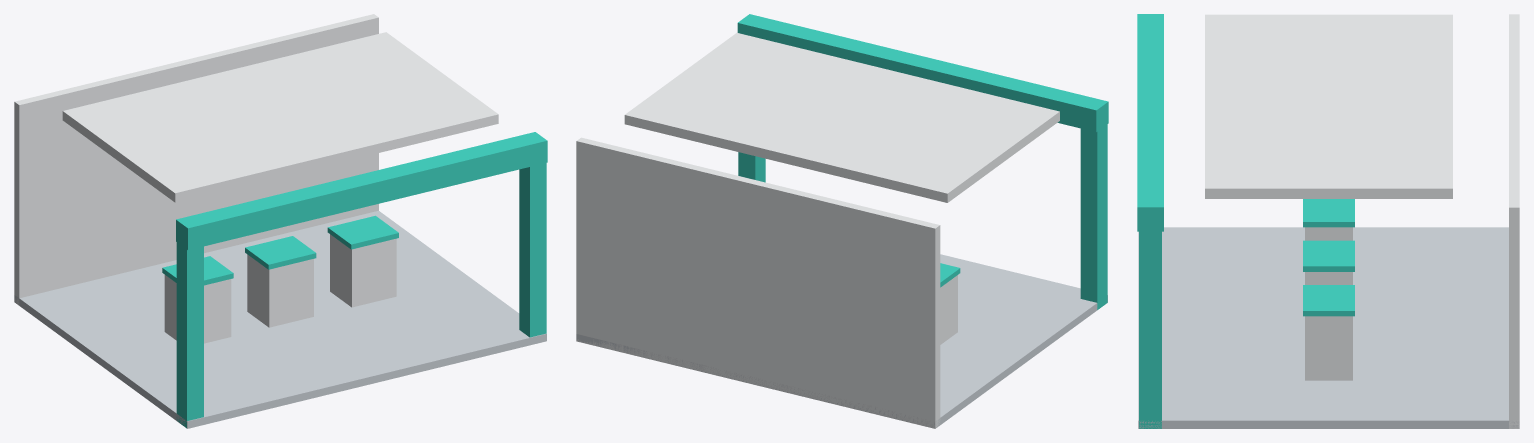
3 views of the same model, side by side, from view 1: azimuth 30°, elevation 25°; view 2: azimuth 150°, elevation 25°; view 3: azimuth 270°, elevation 25° (orthographic). The views are drawn at different scales.
Parts seen in each view (by area): view 1: Exhibition Booth Concept; view 2: Exhibition Booth Concept; view 3: Exhibition Booth Concept.
Part boxes in pixels (x1,y1,x2,y2): Exhibition Booth Concept: [14, 14, 547, 428]; Exhibition Booth Concept: [576, 14, 1108, 428]; Exhibition Booth Concept: [1137, 14, 1519, 428].
Size of the model in its own units: 6 by 3.34 by 5.02.
